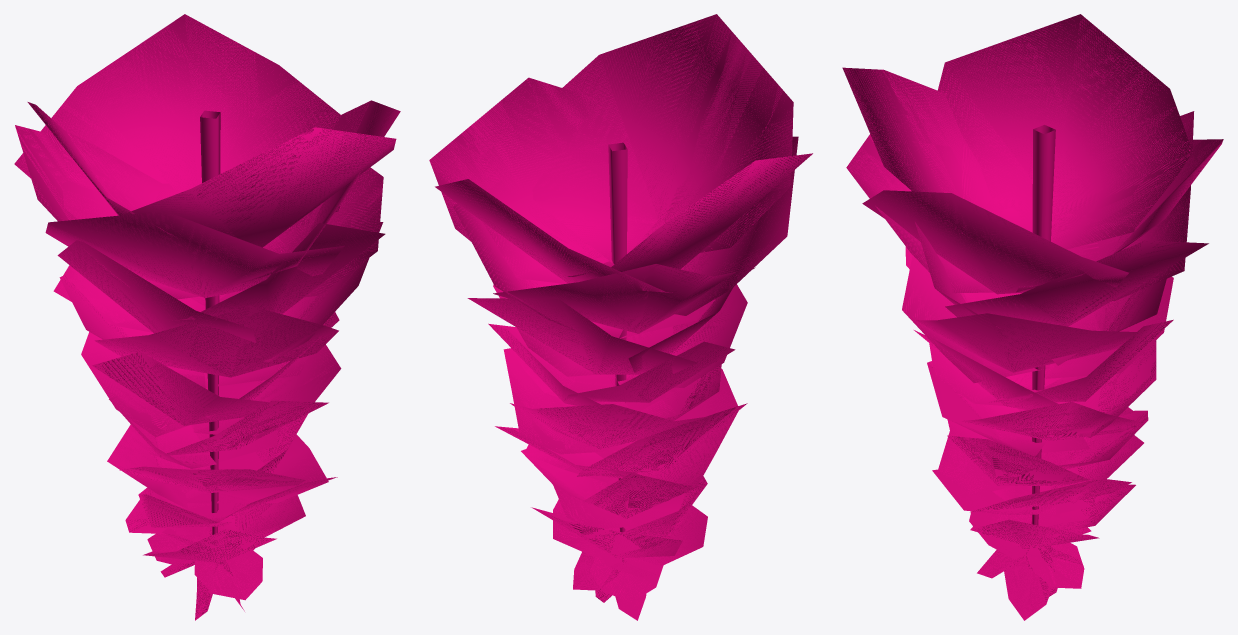
Rendered from swirl.fbx.
3 renders of one model, left to right at view 1: azimuth 30°, elevation 25°; view 2: azimuth 150°, elevation 25°; view 3: azimuth 270°, elevation 25°, orthographic. The views are drawn at different scales.
Parts seen in each view (by area): view 1: hemp; view 2: hemp; view 3: hemp.
Part boxes in pixels (<box>): hemp: <box>14,14,400,620</box>; hemp: <box>429,14,812,620</box>; hemp: <box>842,14,1223,620</box>.
Size of the model in its own units: 102 by 157 by 99.81.
